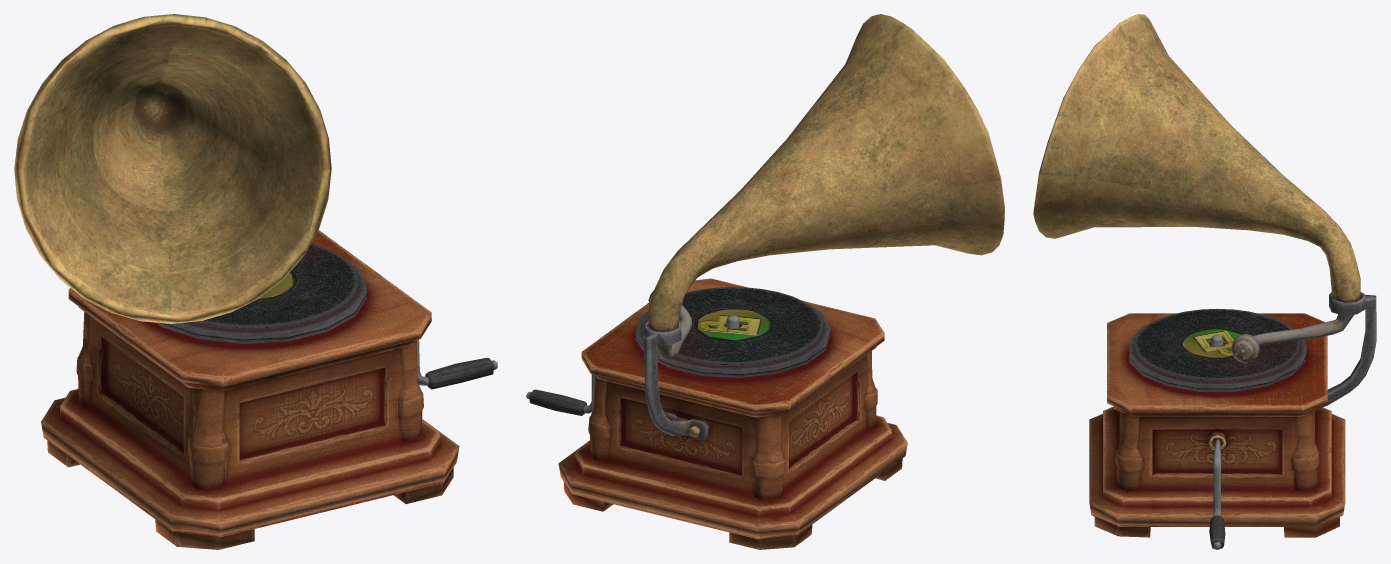
File: gramophone_LOD2.fbx
3 renders of one model, left to right at view 1: azimuth 30°, elevation 25°; view 2: azimuth 150°, elevation 25°; view 3: azimuth 270°, elevation 25°, orthographic. The views are drawn at different scales.
Parts seen in each view (by area): view 1: gramophone1_01; view 2: gramophone1_01; view 3: gramophone1_01.
Boxes of the visible parts, bbox=[...] form: gramophone1_01: bbox=[14, 14, 497, 549]; gramophone1_01: bbox=[526, 14, 1004, 549]; gramophone1_01: bbox=[1033, 14, 1376, 549].
Size of the model in its own units: 124 by 120 by 91.29.
1 material, 1 textured.
